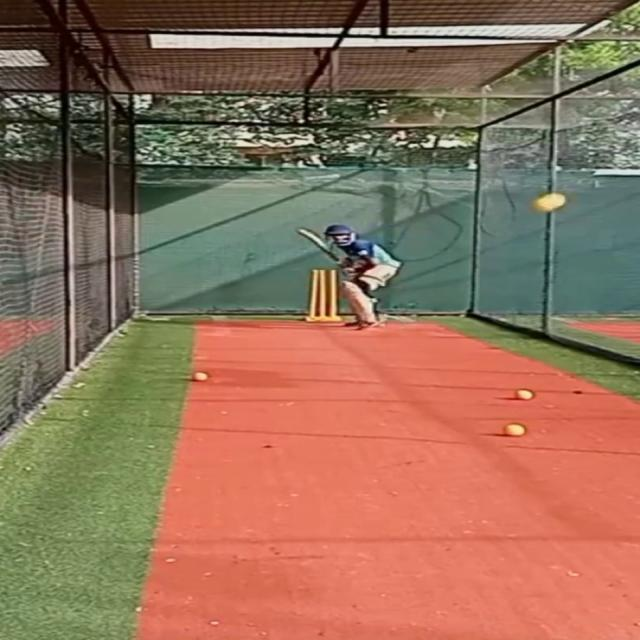ball: (528, 189, 564, 214), (498, 423, 526, 437), (510, 388, 534, 401), (188, 369, 210, 382)
stump: (304, 268, 340, 323)
